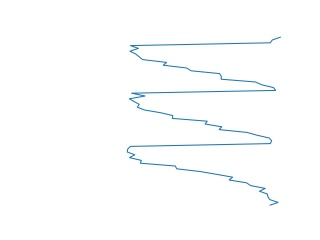distributaryMouthBar: (124, 35, 282, 208)
